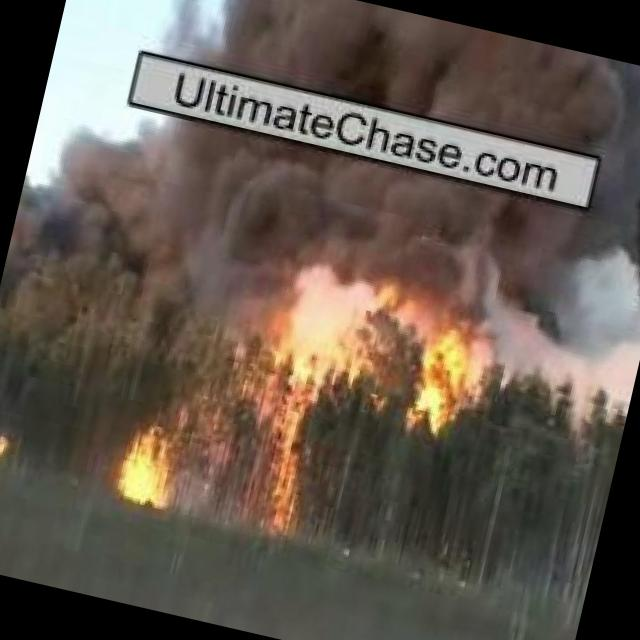Fire: (236, 359, 342, 546), (106, 416, 196, 512), (403, 328, 482, 433), (0, 424, 16, 465)
Smoke: (0, 92, 640, 429), (179, 0, 640, 168)
